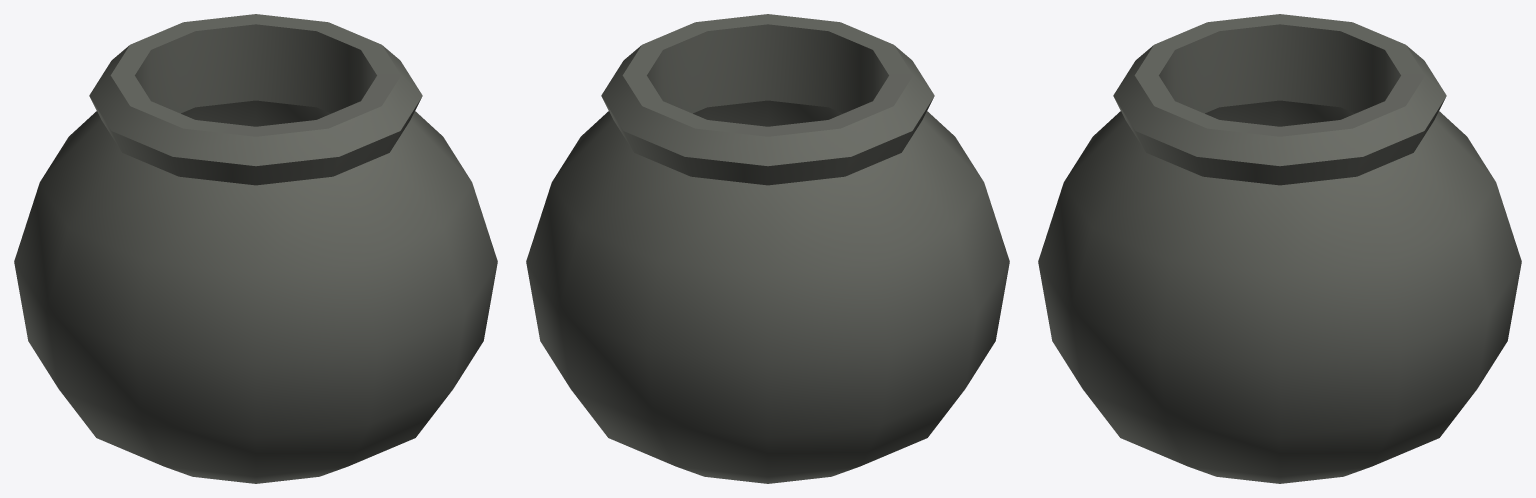
Rendered from Pot_Steel_A.fbx.
3 views of the same model, side by side, from view 1: azimuth 30°, elevation 25°; view 2: azimuth 150°, elevation 25°; view 3: azimuth 270°, elevation 25° (orthographic).
Visible parts, largest first — view 1: Pot_Steel_A; view 2: Pot_Steel_A; view 3: Pot_Steel_A.
Boxes of the visible parts, x1,y1,x2,y2 form: Pot_Steel_A: [14, 14, 497, 483]; Pot_Steel_A: [526, 14, 1009, 483]; Pot_Steel_A: [1038, 14, 1521, 483].
Size of the model in its own units: 43.87 by 35.5 by 43.87.
